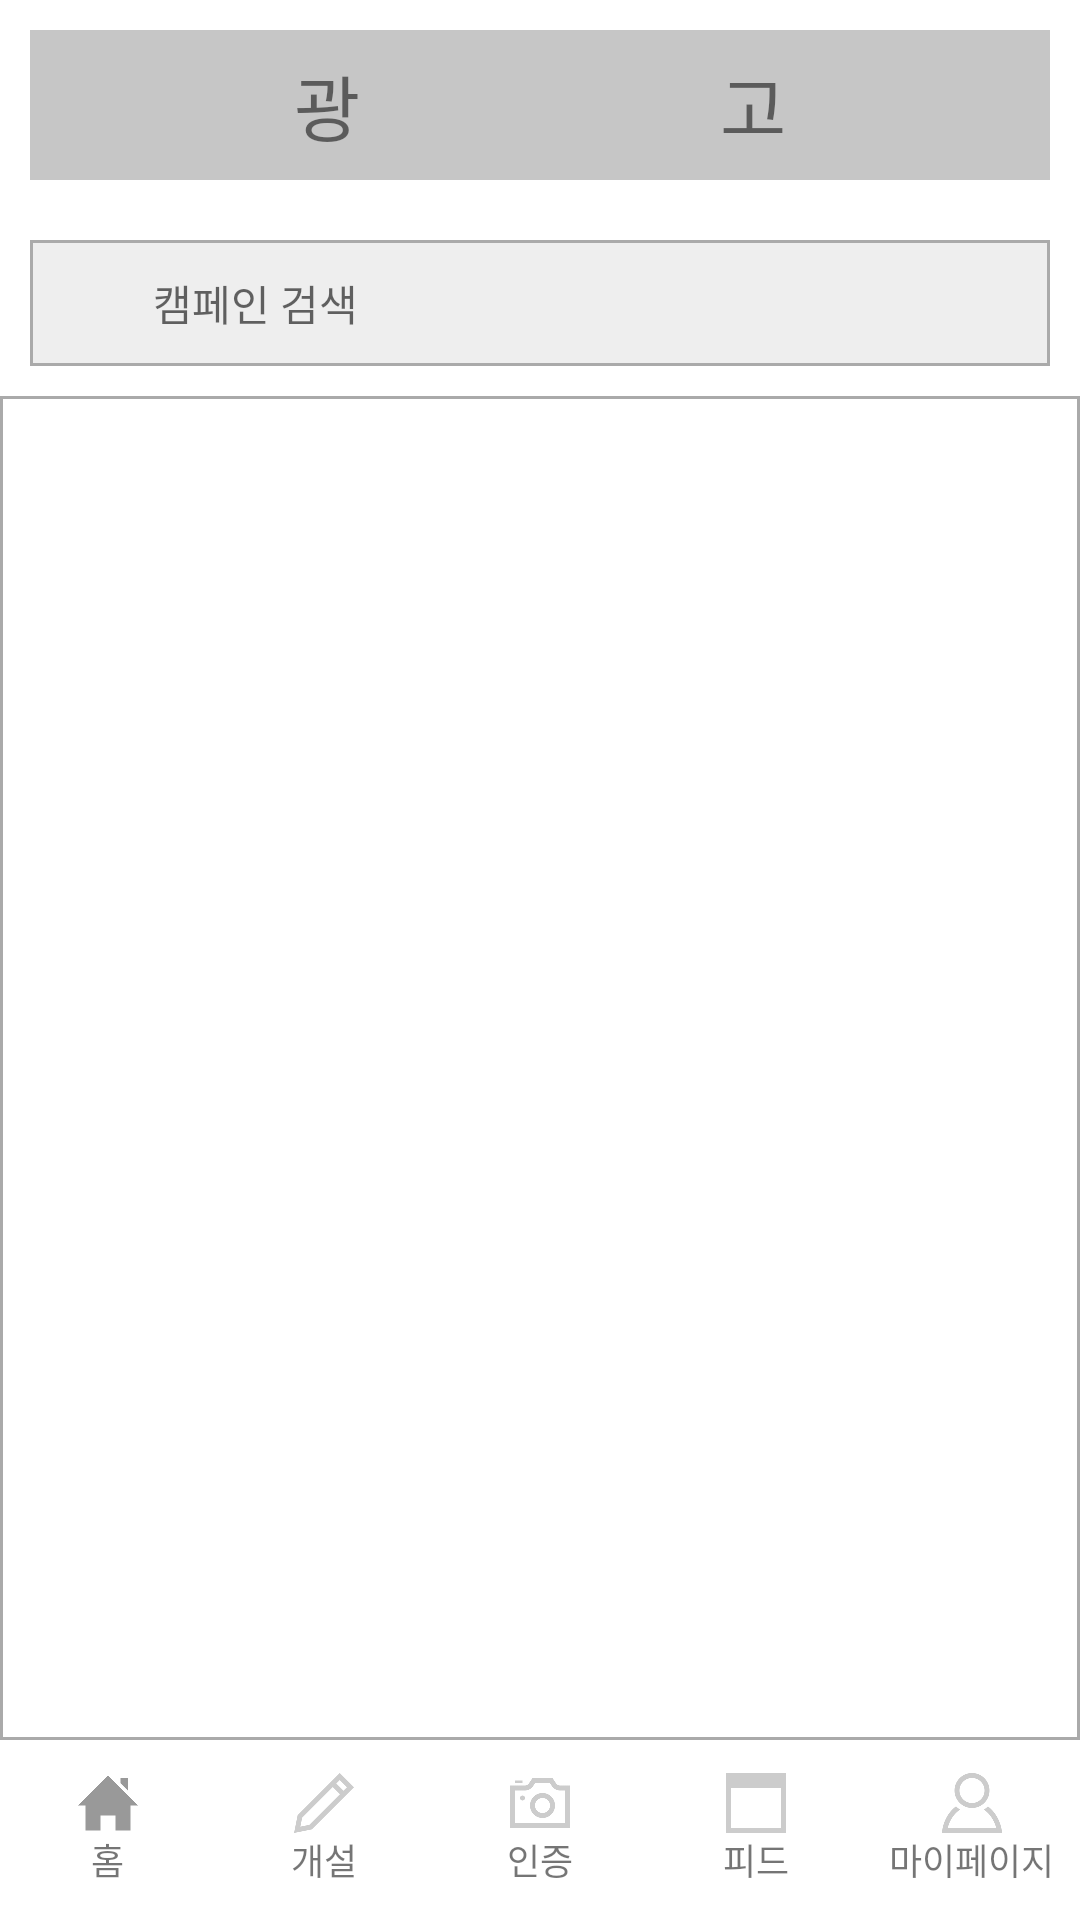

Locate icon controls on the screen. Image size 1080w x 1920h, boxes as (x1, y1, x2, y2).
line write: (294, 1773, 354, 1833)
